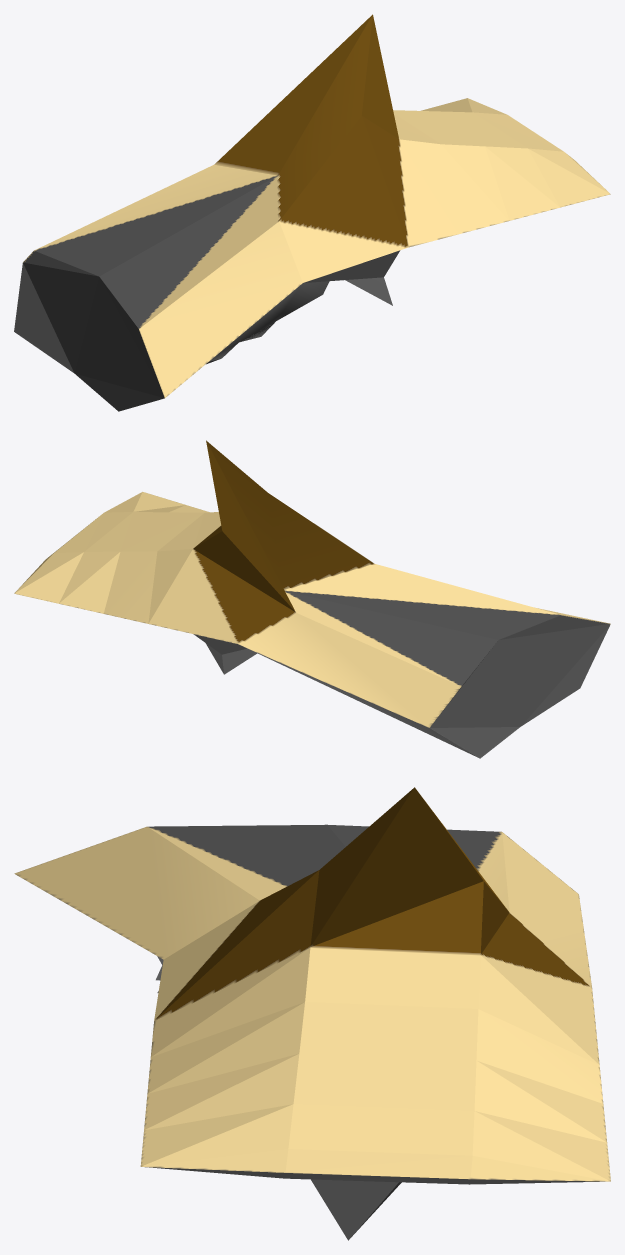
File: wing 4.FBX
3 views of the same model, one above another, from view 1: azimuth 30°, elevation 25°; view 2: azimuth 150°, elevation 25°; view 3: azimuth 270°, elevation 25° (orthographic). The views are drawn at different scales.
Parts seen in each view (by area): view 1: Box001; view 2: Box001; view 3: Box001.
Part boxes in pixels (box(x1,y1,x2,y2)): Box001: box(14, 14, 610, 411); Box001: box(14, 440, 610, 758); Box001: box(14, 787, 610, 1240).
Size of the model in its own units: 81.43 by 43.23 by 51.57.
Materials: 1 (1 with a texture image).
